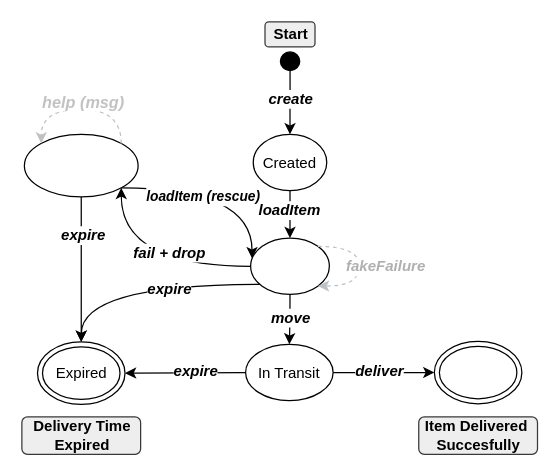
This 560x476 diagram has some shape labels left out. The shapes that lost their labels are listed below. From the top down, each one's box as (x1, y1, x2, y2) in pixels, then its label:
(23, 133, 138, 197): AwaitingRescue
(249, 237, 329, 294): Loading
(433, 340, 522, 404): Delivered
